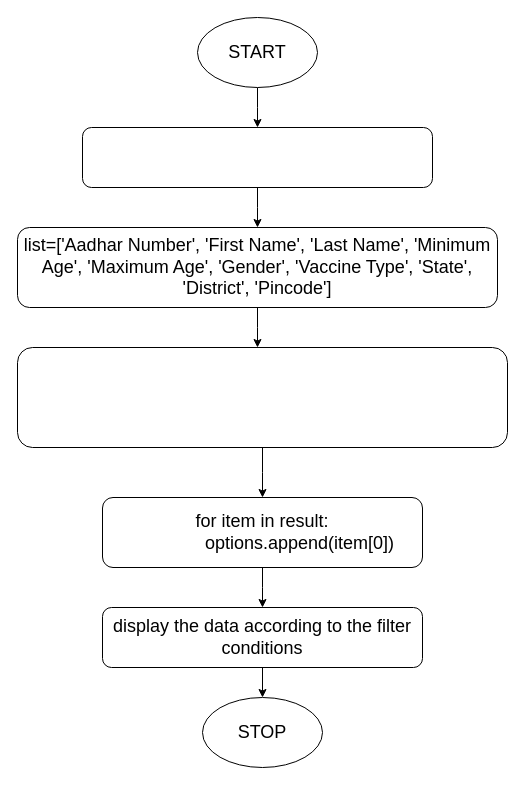
Image size: 525x785. Some labels were removed from this diagram. Here are the shapes that lost their labels. From the top down, the centre of each, then its label:
At point 257,157: "What are the fields you want to filter your search by?".
At point 262,397: "cursor.execute('SELECT name FROM vaccines') result=cursor.fetchall() options=[]".
